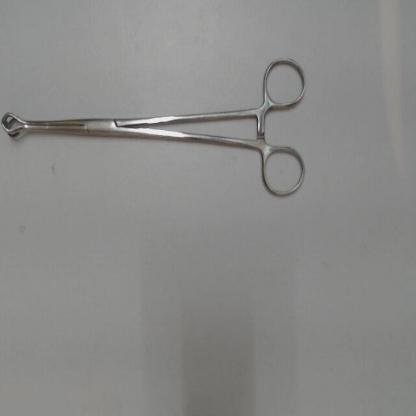8 Babcock Tissue Forceps: (0, 50, 310, 204)
